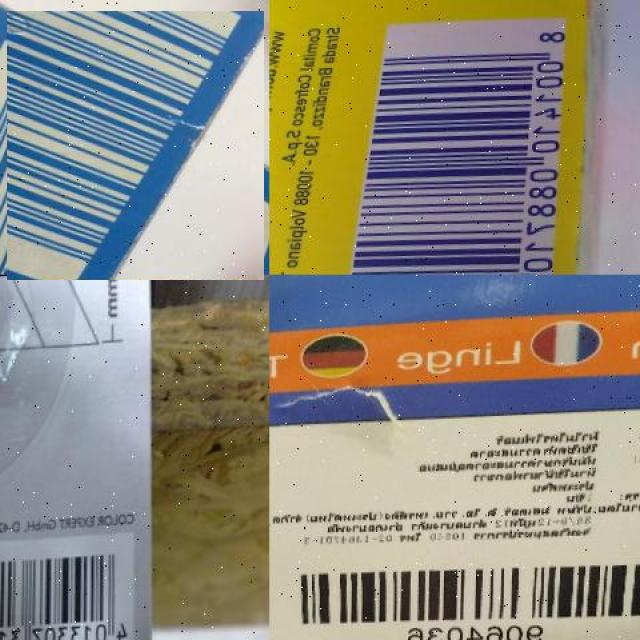Barcode: (3, 14, 267, 277), (348, 8, 573, 275), (282, 542, 640, 640), (0, 521, 140, 640)
